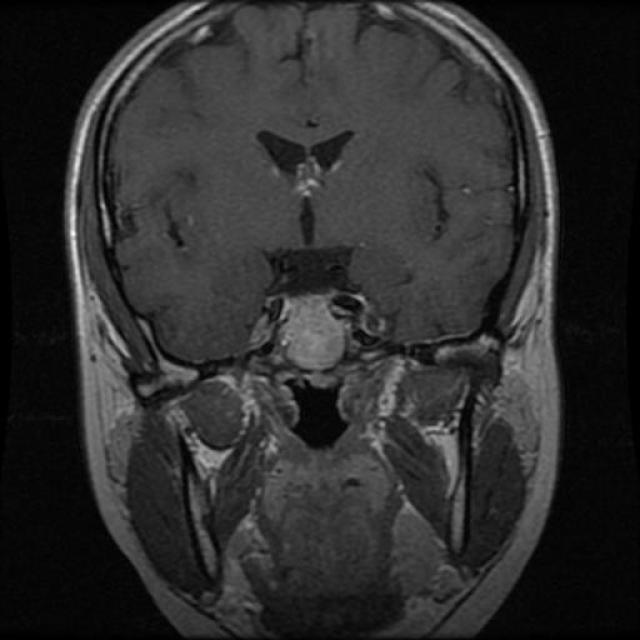pituitary: (262, 285, 368, 372)
